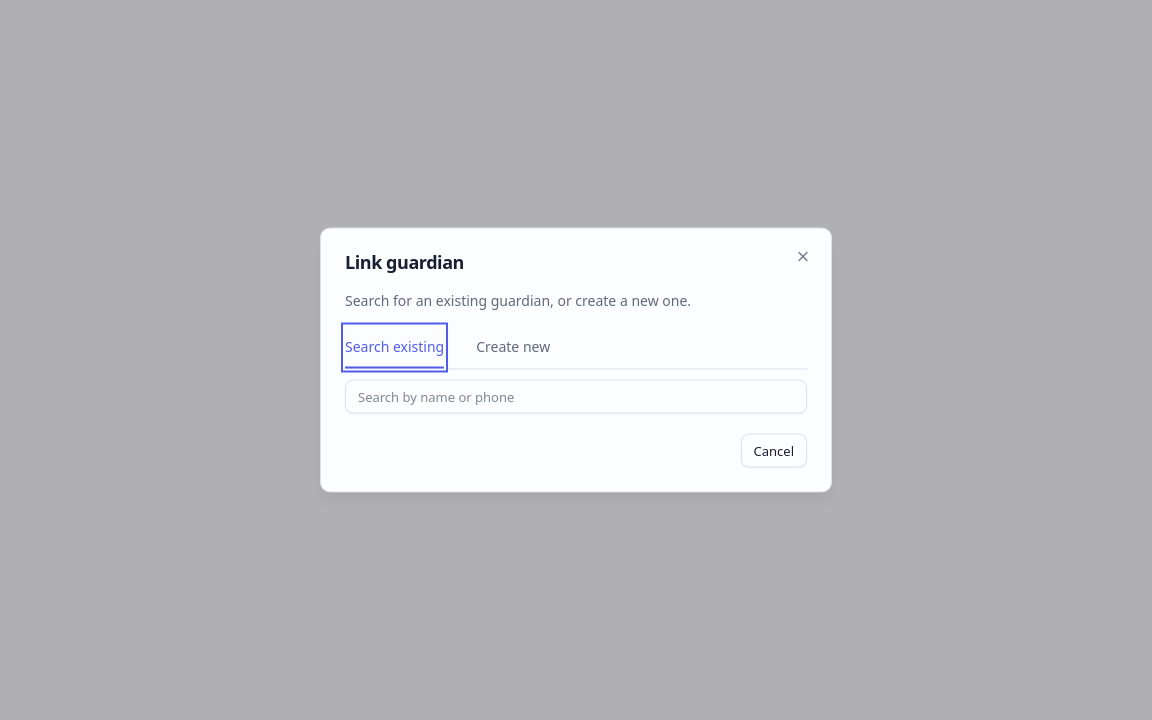
Test: GuardianPickerDialog › shows a search error state, distinct from the no-results copy, and clears it on retry
This screenshot has width=1152, height=720.
Type "Ayesha" into the field labelled "Search by name or phone" at (576, 396), box [345, 380, 807, 414]
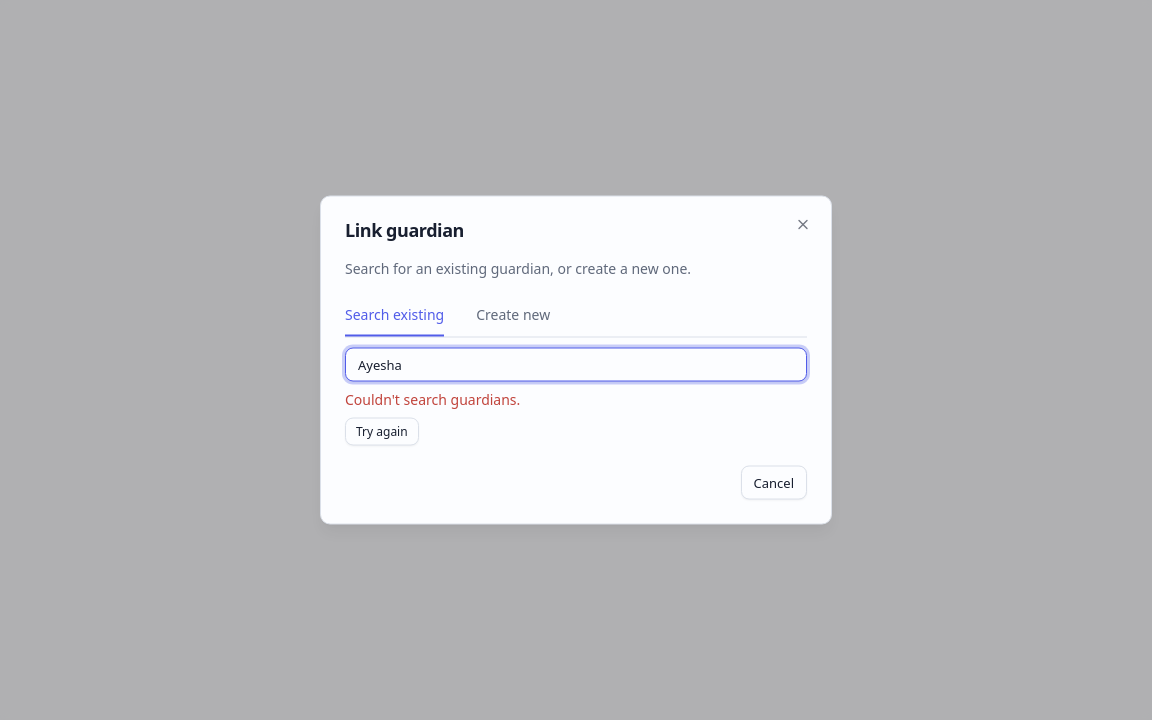
Expected: the text "Couldn't search guardians." is shown, [345, 390, 520, 408]
Click the button "Try again" at (382, 432), box [345, 418, 419, 446]
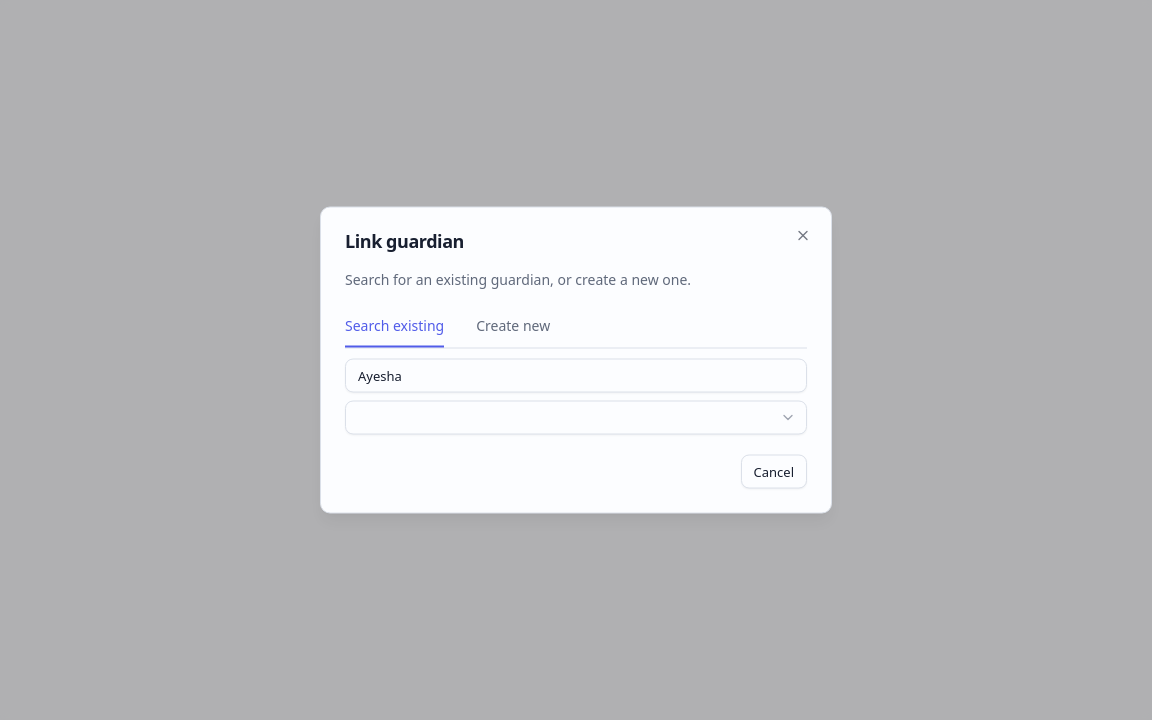
Expected: the text "Couldn't search guardians." is gone
Click the dropdown named "search existing" at (788, 418), box [345, 400, 807, 434]
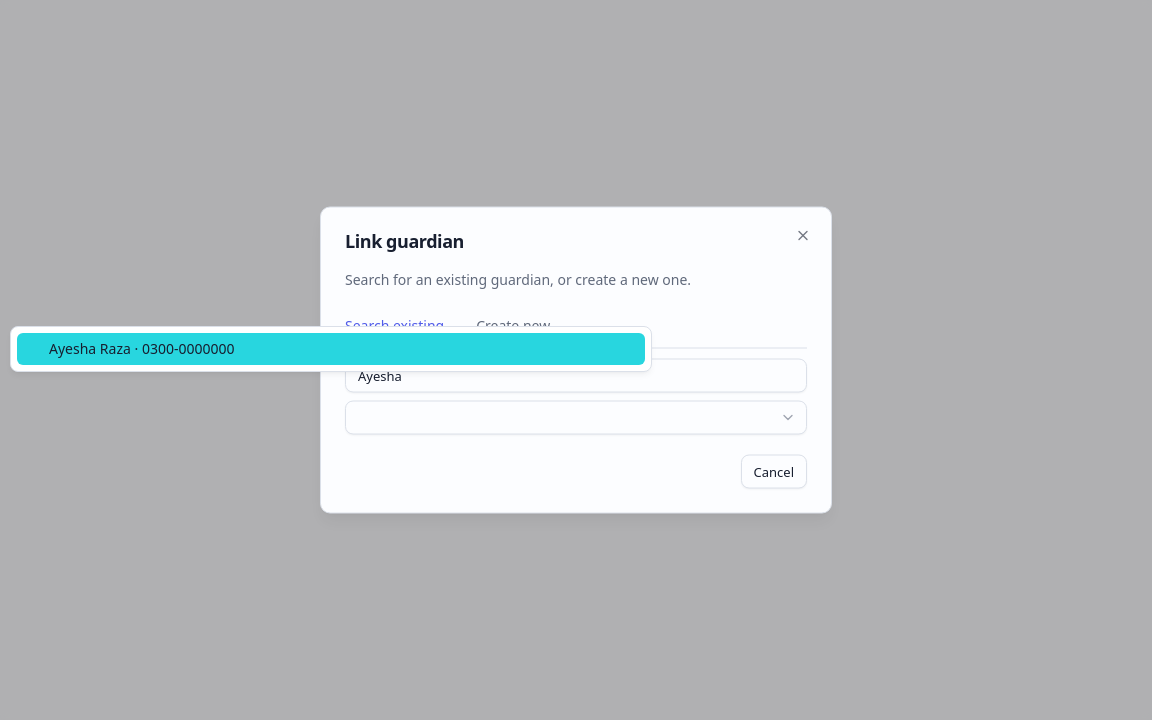
Expected: the option "Ayesha Raza · 0300-0000000" is shown, [17, 333, 645, 365]
